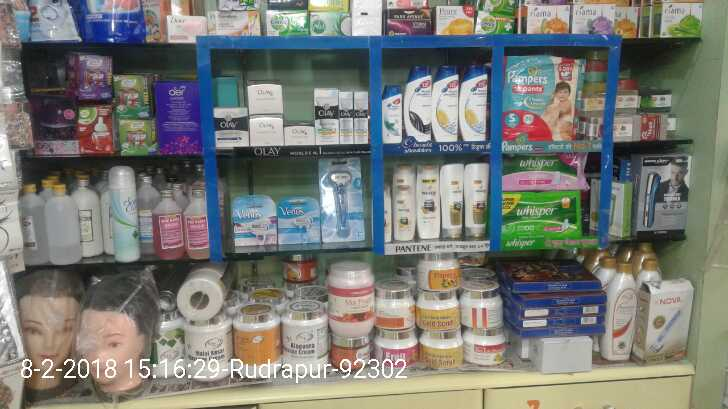venus: (322, 159, 360, 242), (275, 196, 318, 241), (238, 196, 275, 244)
